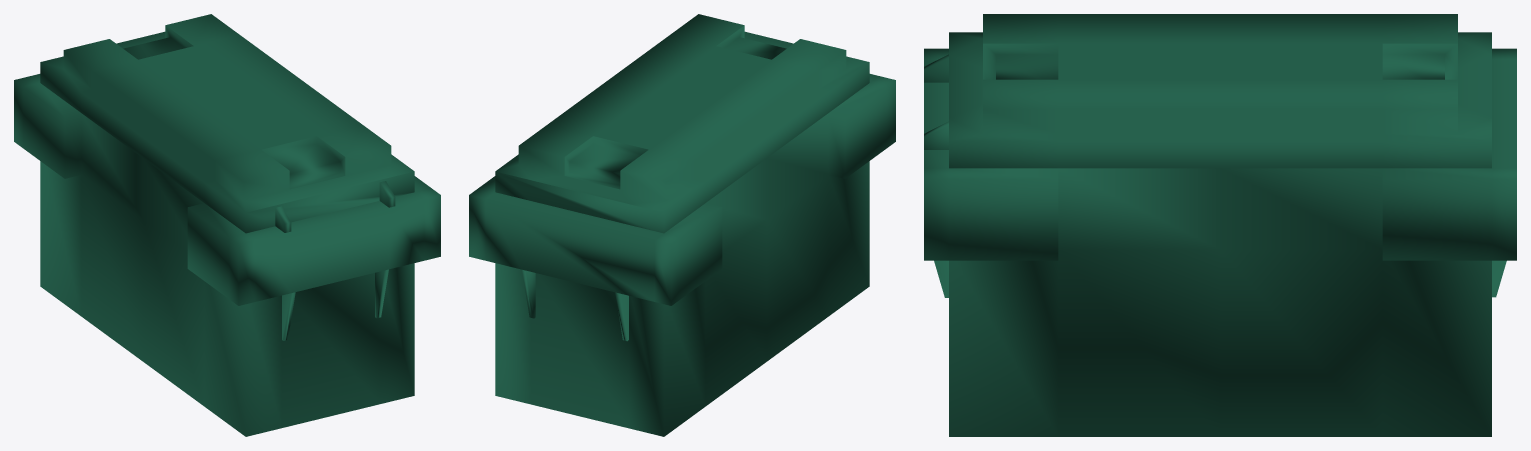
The model's file is AmmoBox.gltf.
3 renders of one model, left to right at view 1: azimuth 30°, elevation 25°; view 2: azimuth 150°, elevation 25°; view 3: azimuth 270°, elevation 25°, orthographic. The views are drawn at different scales.
Parts seen in each view (by area): view 1: Cube.001; view 2: Cube.001; view 3: Cube.001.
Part boxes in pixels (left/top/right/bottom): Cube.001: left=14, top=14, right=440, bottom=436; Cube.001: left=469, top=14, right=895, bottom=436; Cube.001: left=924, top=14, right=1516, bottom=436.
Size of the model in its own units: 2.18 by 2.5 by 4.18.
